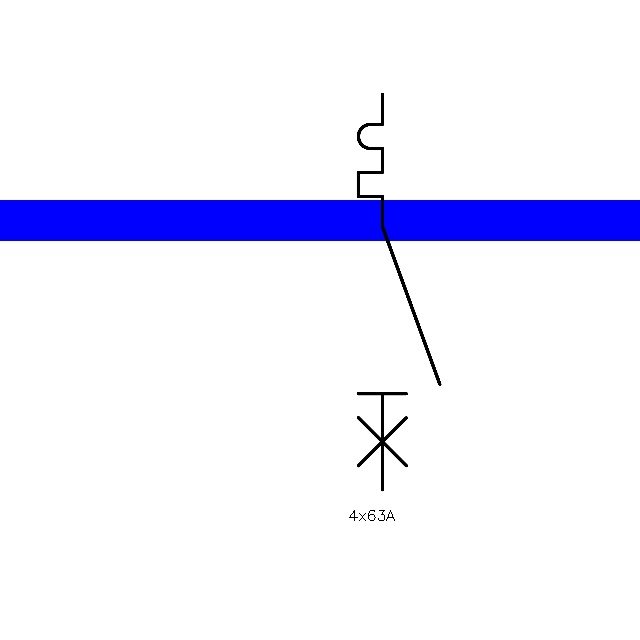interruptor_termomagnetico: (348, 84, 450, 500)
